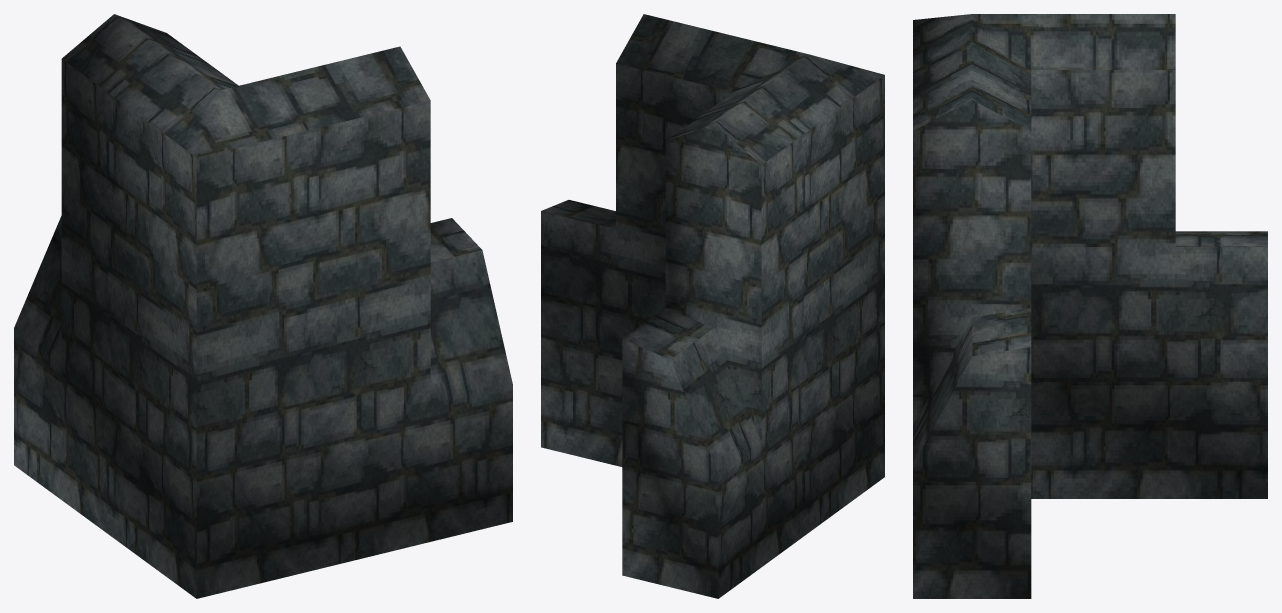
Rendered from dark stone defense corner.glb.
The picture shows the model from 3 angles, left to right: view 1: azimuth 30°, elevation 25°; view 2: azimuth 150°, elevation 25°; view 3: azimuth 270°, elevation 25°; orthographic projection. The views are drawn at different scales.
Visible parts, largest first — view 1: Crenelation Outside Corner.004; view 2: Crenelation Outside Corner.004; view 3: Crenelation Outside Corner.004.
Part boxes in pixels (x1,y1,x2,y2): Crenelation Outside Corner.004: [14, 14, 512, 598]; Crenelation Outside Corner.004: [541, 14, 884, 598]; Crenelation Outside Corner.004: [913, 14, 1267, 598].
Size of the model in its own units: 1.37 by 1.96 by 1.37.
Materials: 1 (1 with a texture image).
